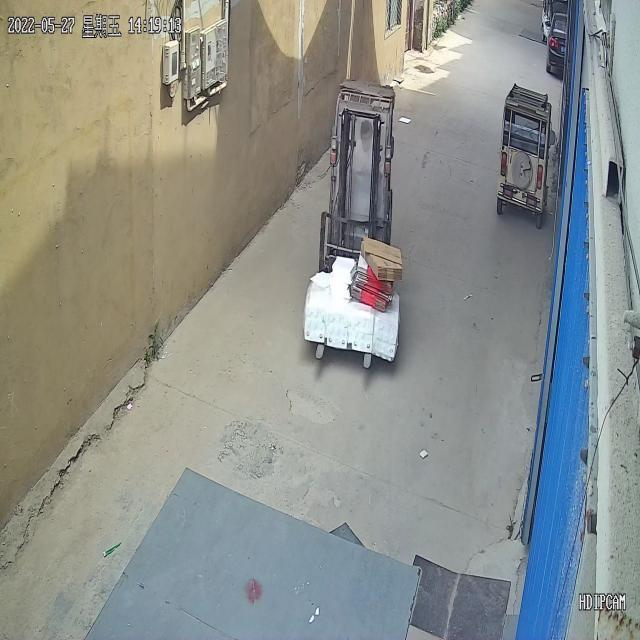forklift: (327, 85, 400, 257)
